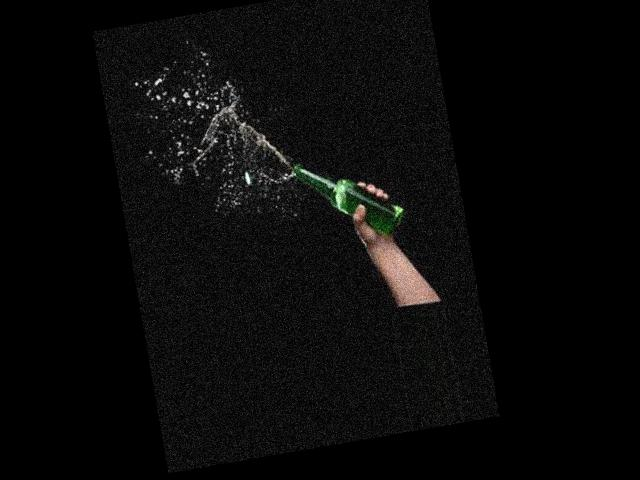beer: (290, 148, 410, 252)
